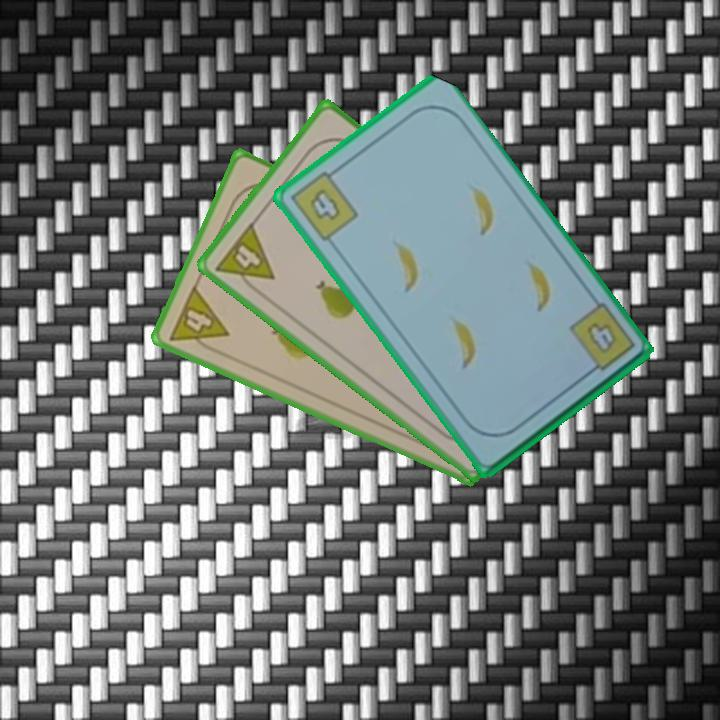4b: (286, 164, 361, 245), (565, 299, 638, 380)
4p: (211, 218, 278, 299), (165, 282, 232, 358)
